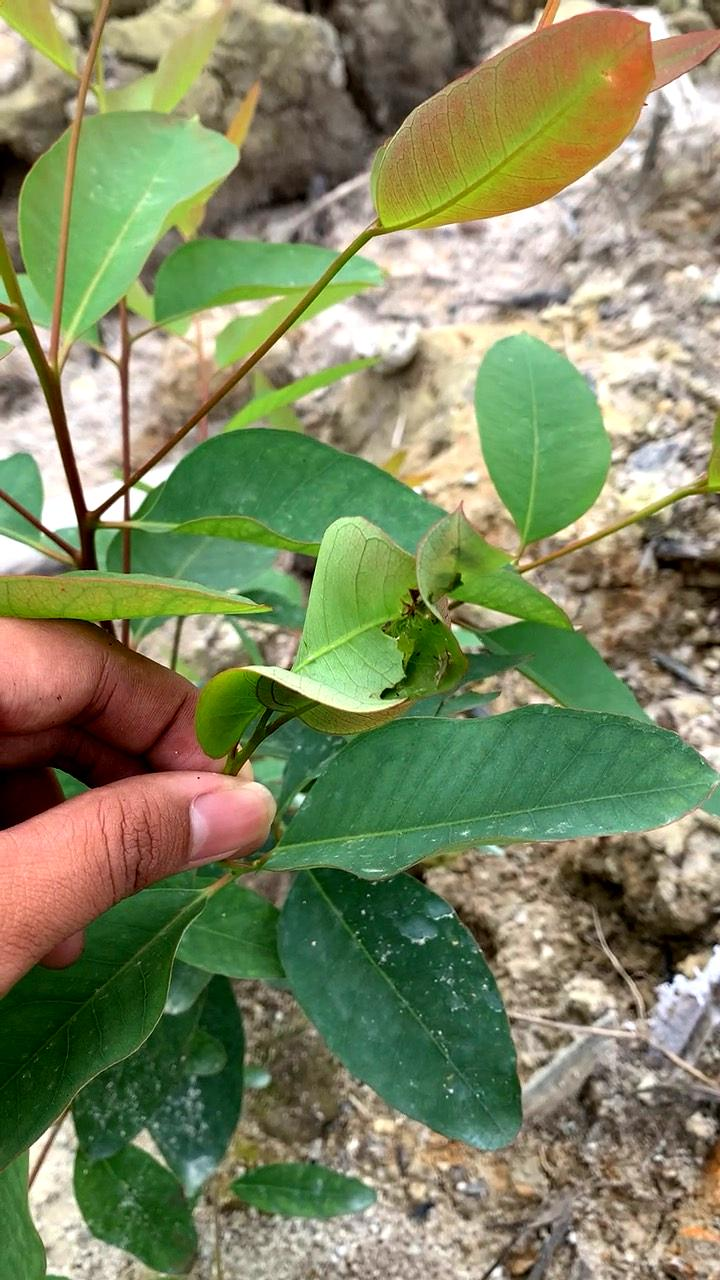Leaf Roller - Leaf: (155, 493, 535, 836)
